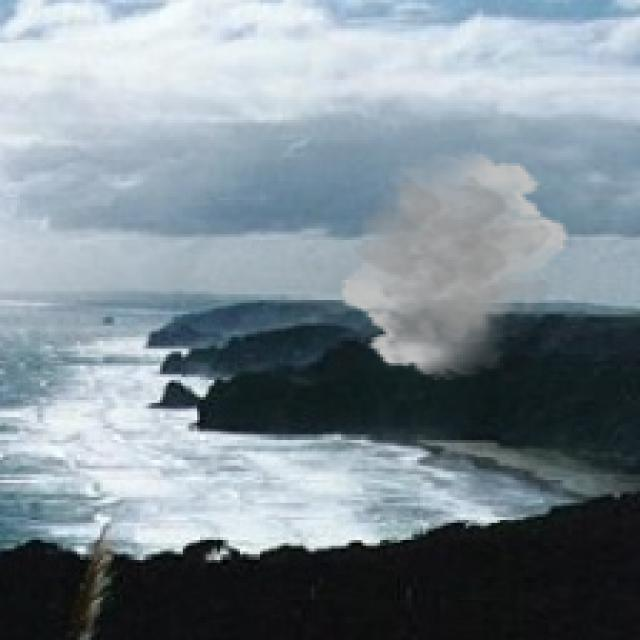smoke: (337, 149, 572, 380)
